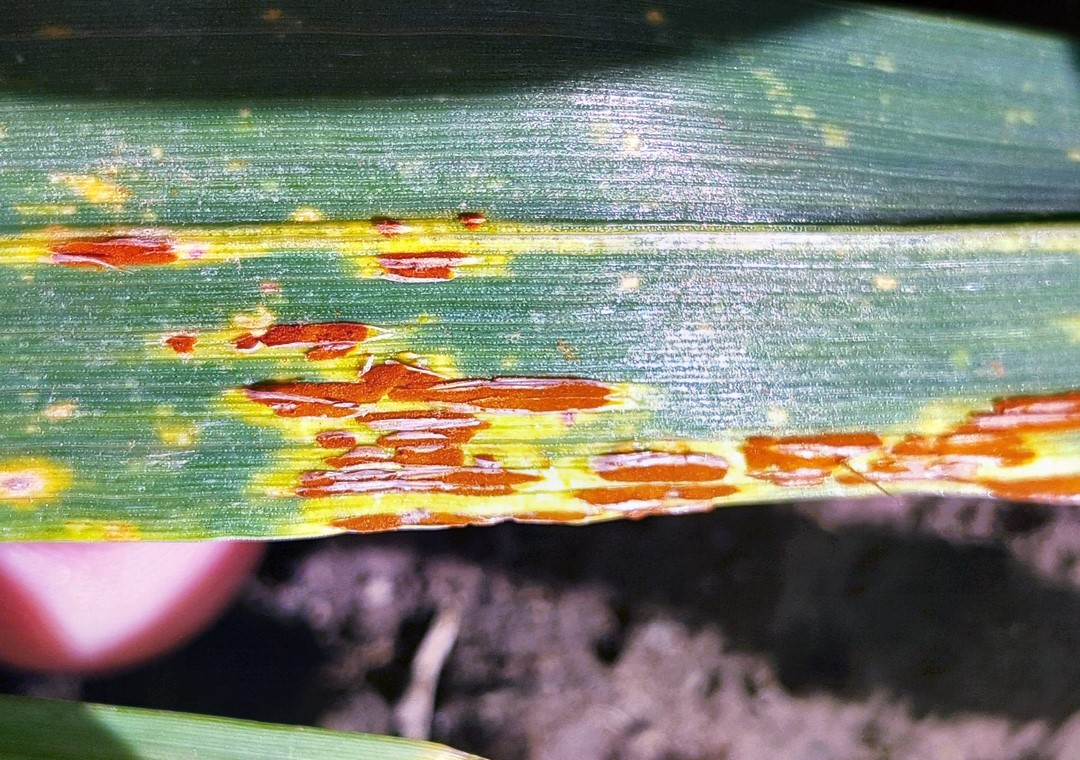Leaf Rust: (79, 212, 1035, 548)
